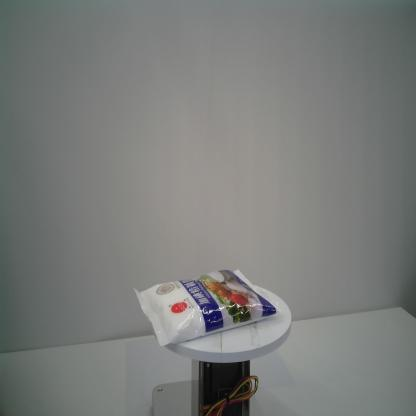Seasoner: (131, 267, 282, 345)
